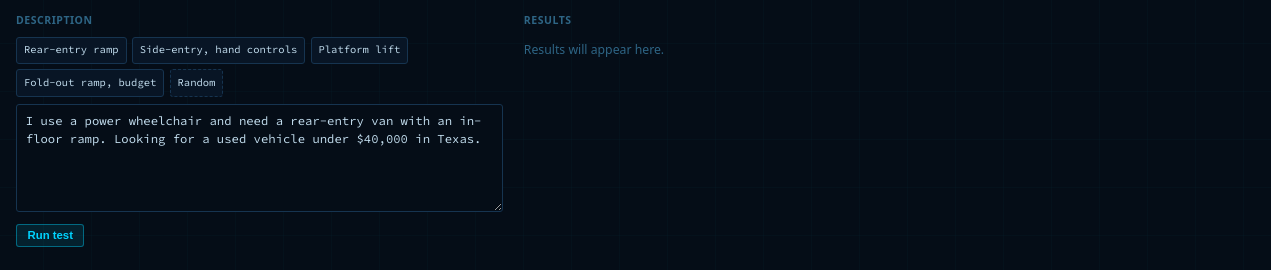
IntakeTestPanel › should show "Model not found" with a pull command when the model is missing
Click the button "Run test".
click(50, 235)  # box [16, 224, 84, 247]
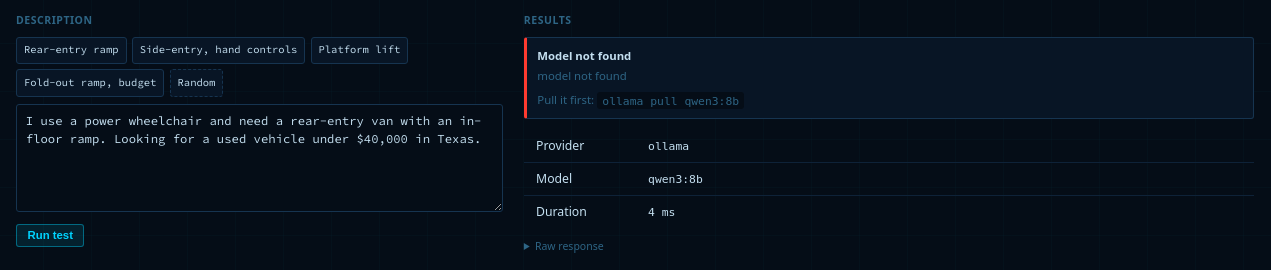
Now the text "Model not found" is shown, box [537, 48, 631, 63]
Now the text "ollama pull qwen3:8b" is shown, box [597, 92, 744, 109]
